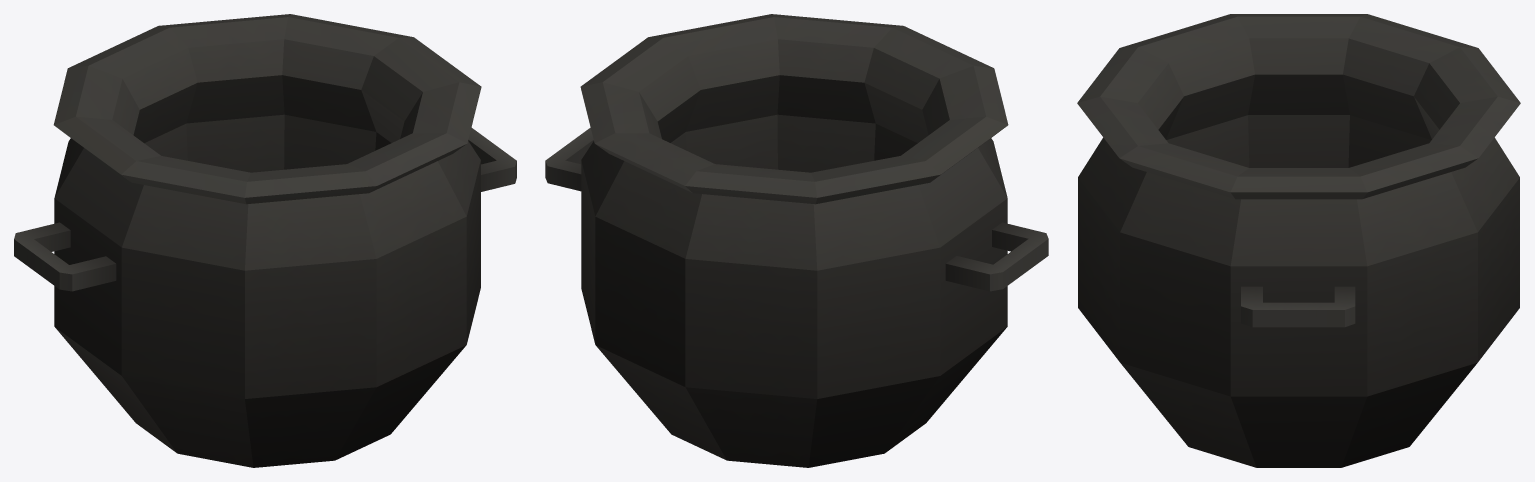
File: Cauldron.fbx
The picture shows the model from 3 angles, left to right: view 1: azimuth 30°, elevation 25°; view 2: azimuth 150°, elevation 25°; view 3: azimuth 270°, elevation 25°; orthographic projection.
Visible parts, largest first — view 1: Cauldron; view 2: Cauldron; view 3: Cauldron.
Part boxes in pixels (x1=…): Cauldron: x1=14, y1=14, x2=516, y2=467; Cauldron: x1=545, y1=14, x2=1048, y2=467; Cauldron: x1=1077, y1=14, x2=1520, y2=467.
Bounding box in the file's own units: 104 × 71.68 × 85.81.
